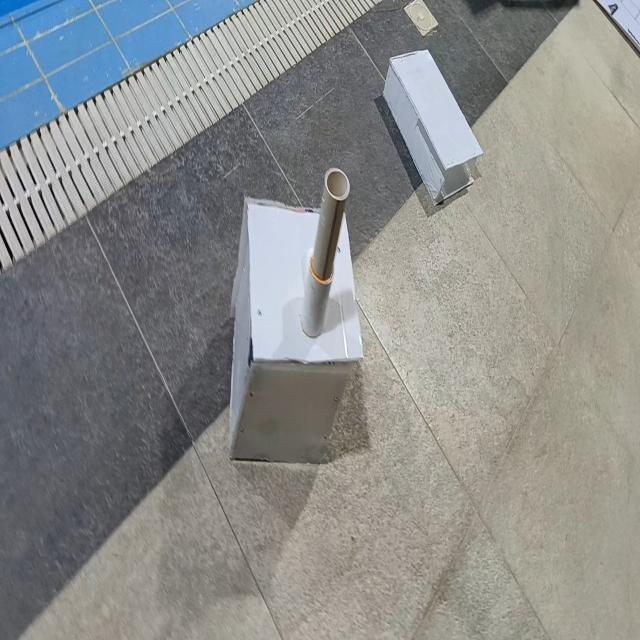Cube: (228, 194, 364, 464)
Cuboid: (382, 47, 484, 206)
